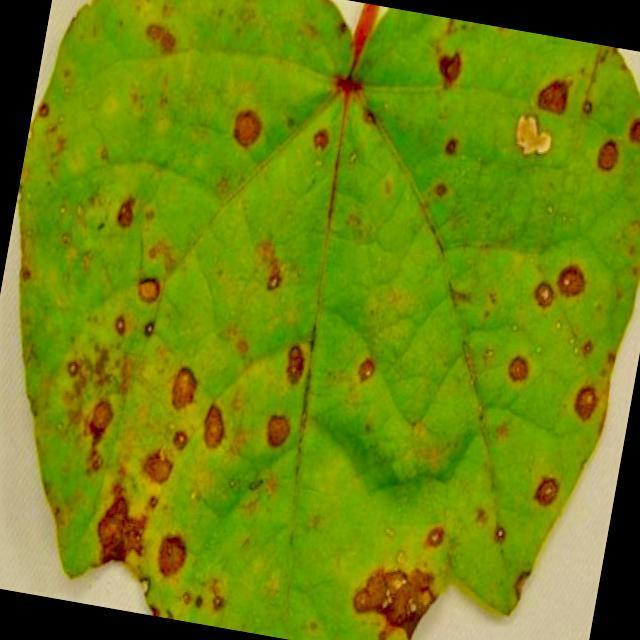Bacterial: (55, 203, 277, 592), (482, 234, 596, 514), (432, 43, 625, 180), (342, 508, 462, 638), (178, 87, 360, 168), (288, 318, 410, 412)
